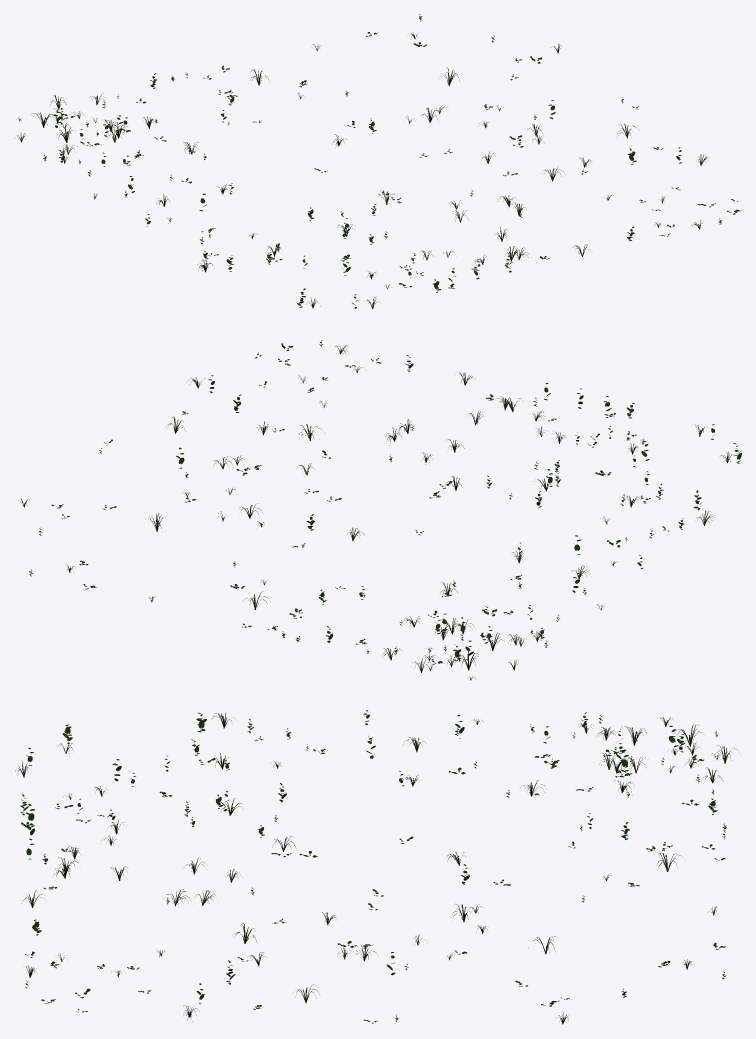
File: weeds_-01+00_foliage.dae
3 views of the same model, one above another, from view 1: azimuth 30°, elevation 25°; view 2: azimuth 150°, elevation 25°; view 3: azimuth 270°, elevation 25° (orthographic). The views are drawn at different scales.
Visible parts, largest first — view 1: weeds_-01+00_foliage; view 2: weeds_-01+00_foliage; view 3: weeds_-01+00_foliage.
Part boxes in pixels (left/top/right/bottom): weeds_-01+00_foliage: left=17, top=14, right=741, bottom=309; weeds_-01+00_foliage: left=20, top=340, right=741, bottom=680; weeds_-01+00_foliage: left=15, top=710, right=738, bottom=1024.
Bounding box in the file's own units: 10.17 × 10.25 × 0.4783.
